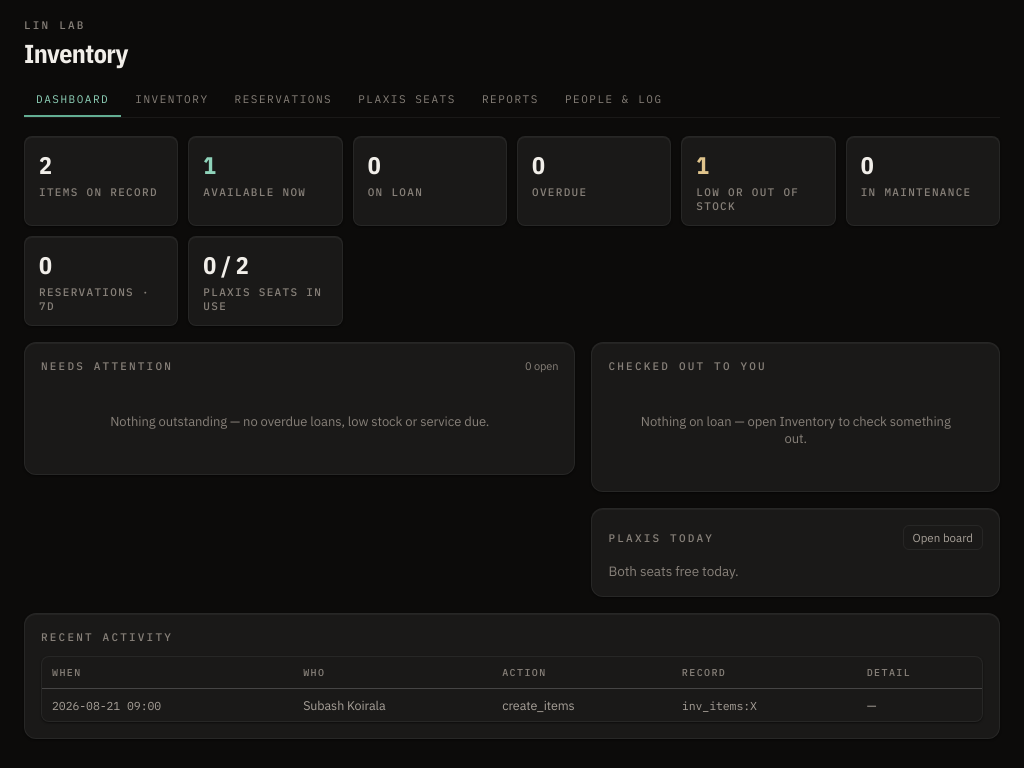
Test: mobile DOM hooks › Inventory, Reports and People tables are card tables with data-labels
This screenshot has width=1024, height=768.
Click the tab "Inventory" at (172, 100), box [123, 84, 221, 117]
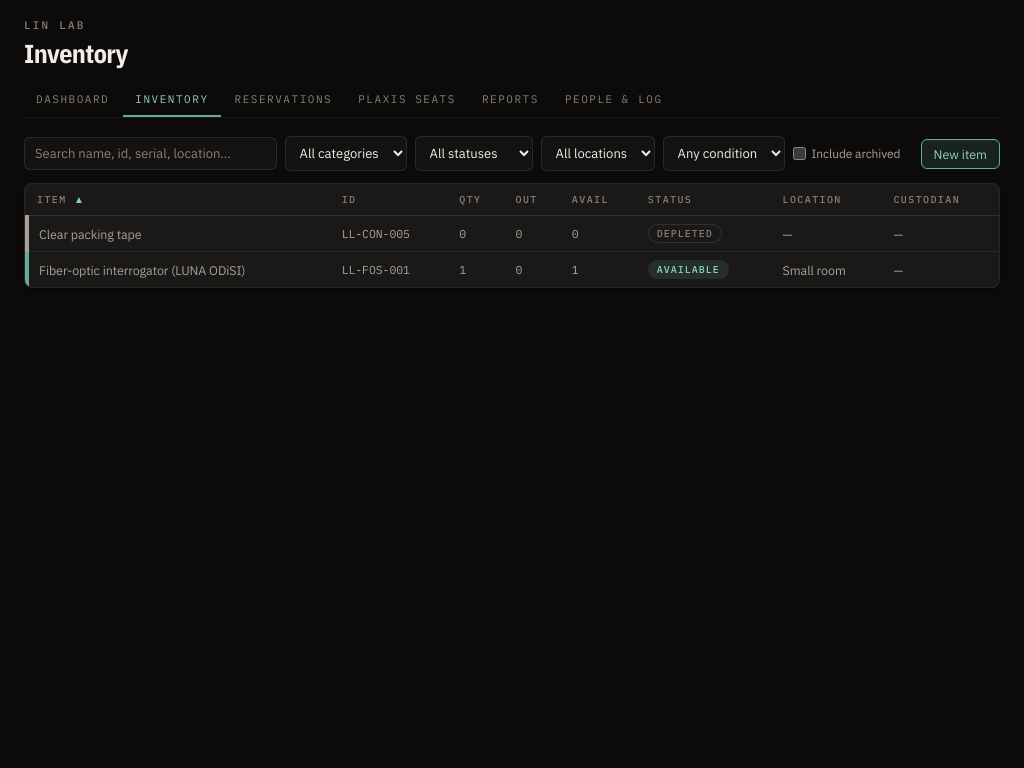
Expected: the table is shown, [25, 184, 999, 287]
Now the cell "Clear packing tape" is shown, box [27, 216, 332, 252]
Click the tab "Reports" at (510, 100), box [470, 84, 551, 117]
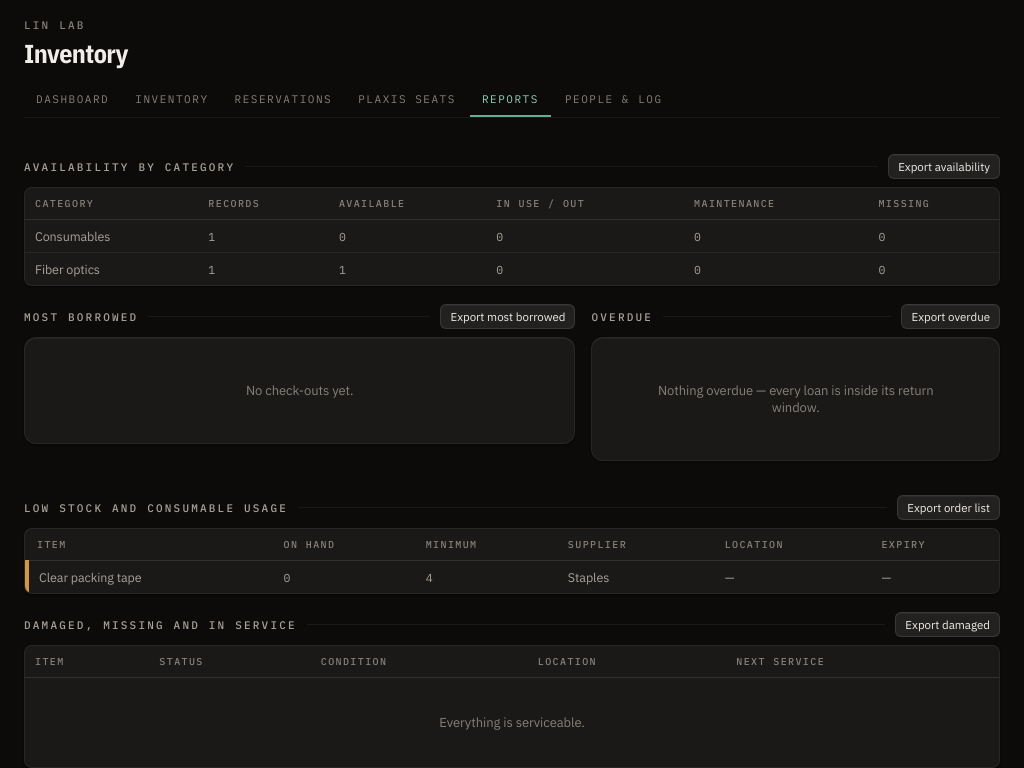
Now the table that starts with "Category" is shown, box [25, 188, 999, 285]
Now the cell "Consumables" is shown, box [25, 220, 198, 252]
Click the tab "People & log" at (614, 100), box [553, 84, 675, 117]
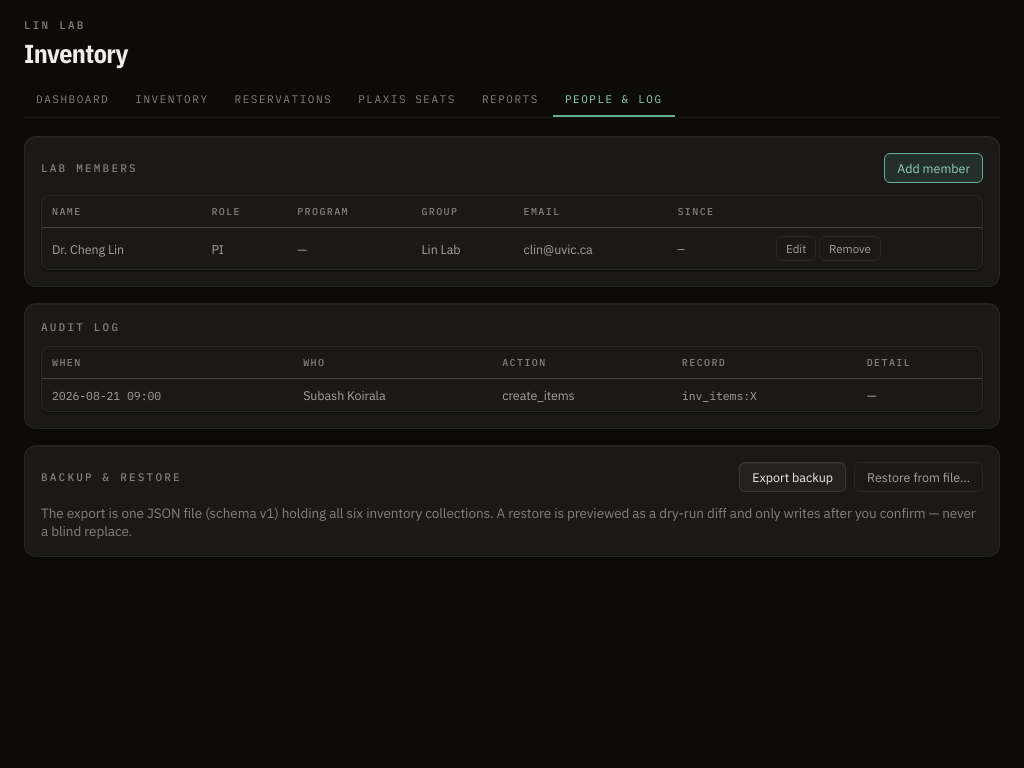
Now the table that starts with "Name" is shown, box [42, 196, 982, 269]
Now the cell "Dr. Cheng Lin" is shown, box [42, 228, 201, 269]
